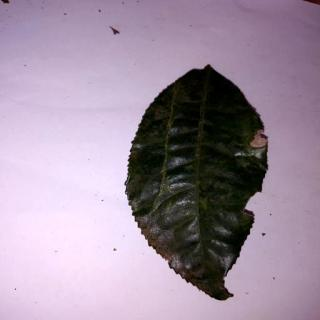Anthracnose: (129, 64, 272, 304)
